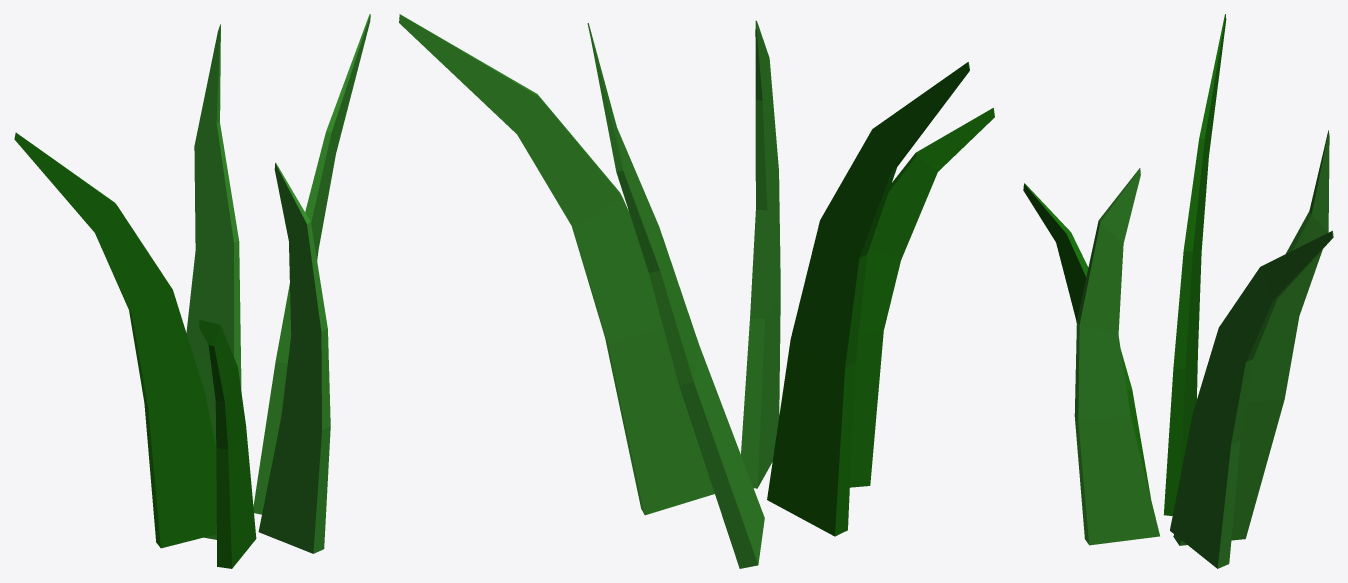
File: Grass(3).fbx
3 views of the same model, side by side, from view 1: azimuth 30°, elevation 25°; view 2: azimuth 150°, elevation 25°; view 3: azimuth 270°, elevation 25° (orthographic). The views are drawn at different scales.
Parts seen in each view (by area): view 1: Grass(3); view 2: Grass(3); view 3: Grass(3).
Part boxes in pixels (x1,y1,x2,y2): Grass(3): (14, 14, 370, 568); Grass(3): (399, 14, 994, 568); Grass(3): (1023, 14, 1333, 568).
Bounding box in the file's own units: 0.5926 × 0.6288 × 0.3948.
